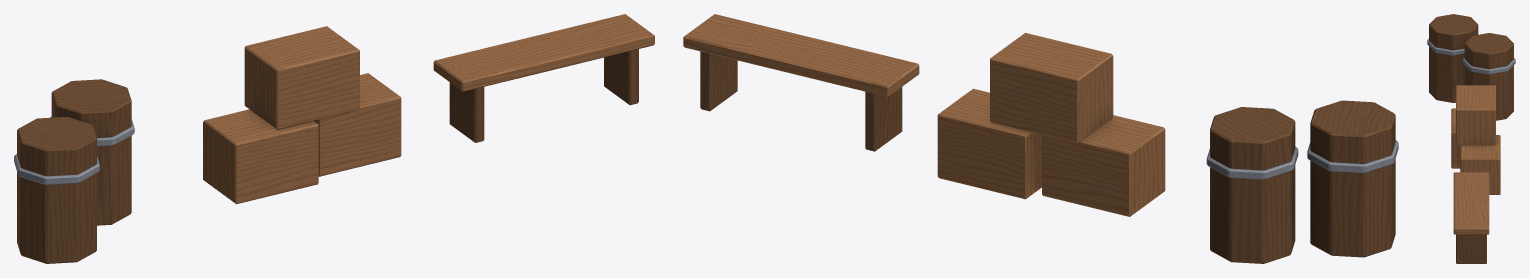
File: hamnprylar_tex.glb
3 renders of one model, left to right at view 1: azimuth 30°, elevation 25°; view 2: azimuth 150°, elevation 25°; view 3: azimuth 270°, elevation 25°, orthographic. The views are drawn at different scales.
Parts seen in each view (by area): view 1: hamnprylar; view 2: hamnprylar; view 3: hamnprylar.
Part boxes in pixels (<box>): hamnprylar: <box>14,14,654,263</box>; hamnprylar: <box>683,14,1398,263</box>; hamnprylar: <box>1427,14,1515,263</box>.
Bounding box in the file's own units: 4.95 × 0.905 × 0.9923.
Materials: 4 (4 with a texture image).
